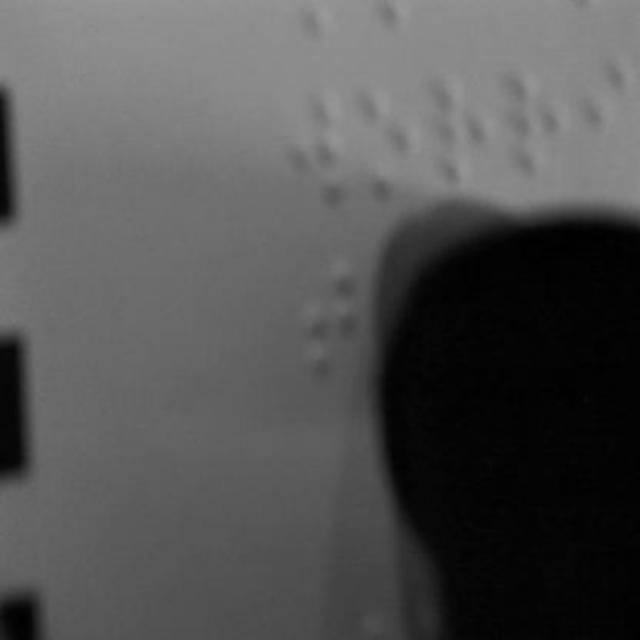braiile: (498, 61, 572, 197), (357, 80, 429, 210), (289, 82, 353, 224), (302, 247, 364, 387), (430, 74, 494, 208), (576, 58, 638, 196)
